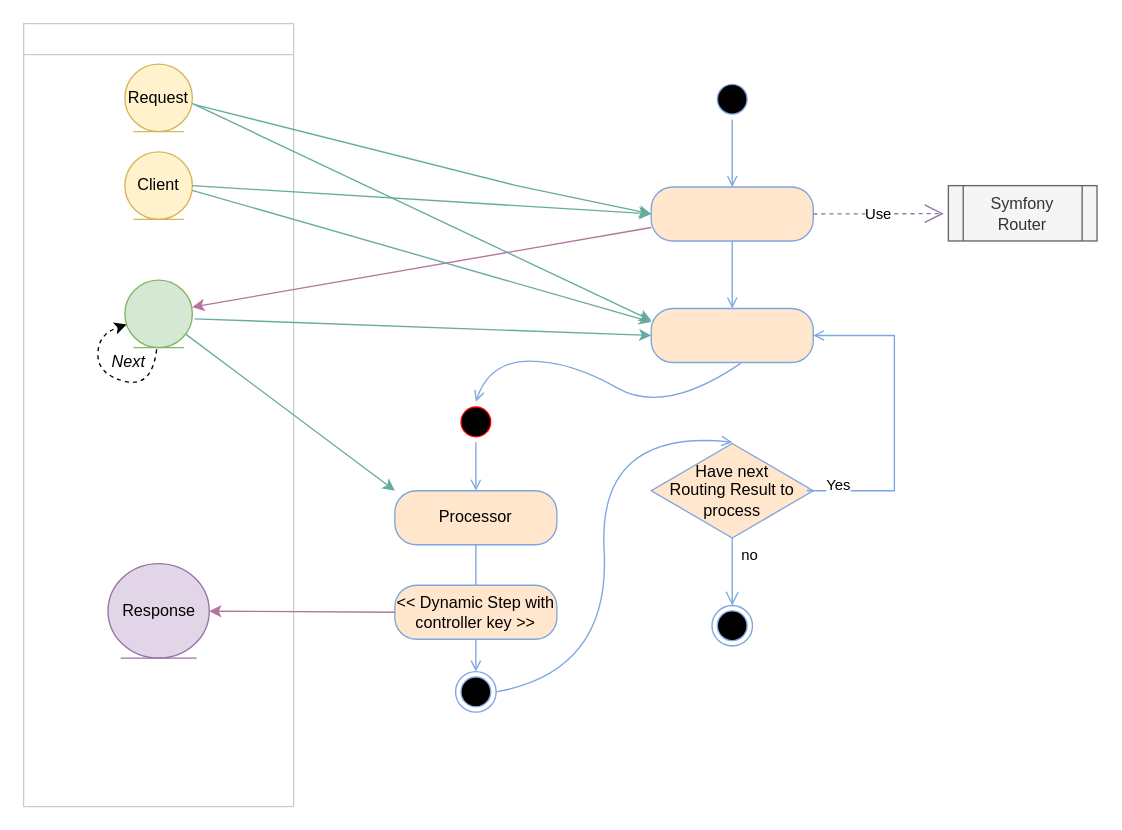
Image size: 1122x830. Some labels were removed from this diagram. The box of each missing label's shape, as (x1, y1, x2, y2) in pixels:
ProcessorCookbook: (650, 307, 813, 362)
Result: (124, 279, 192, 348)
Router: (650, 186, 813, 241)
Workplan: (22, 22, 294, 807)
